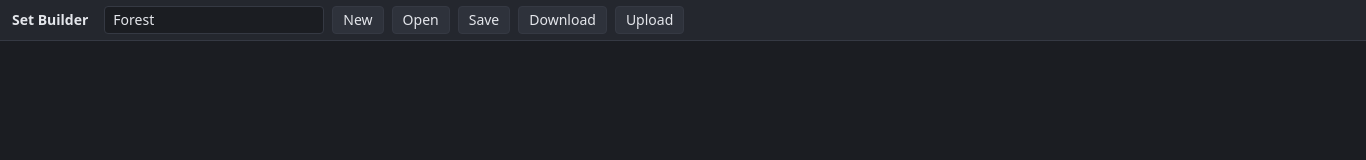
TopBar › shows the new name when the scene is replaced while the field is being edited
Type " edit" into the field named "Scene name" at (214, 20), box [104, 6, 324, 34]
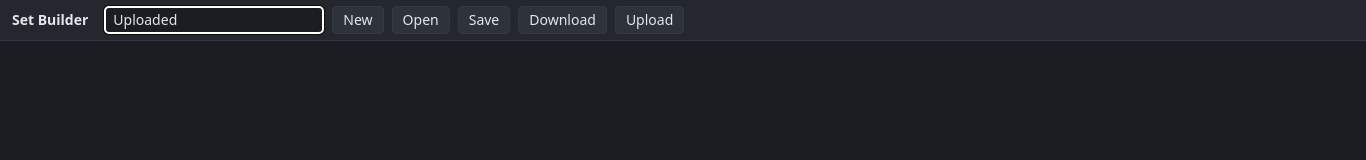
Now the field named "Scene name" holds "Uploaded"
Type " edit" into the field named "Scene name" at (214, 20), box [104, 6, 324, 34]
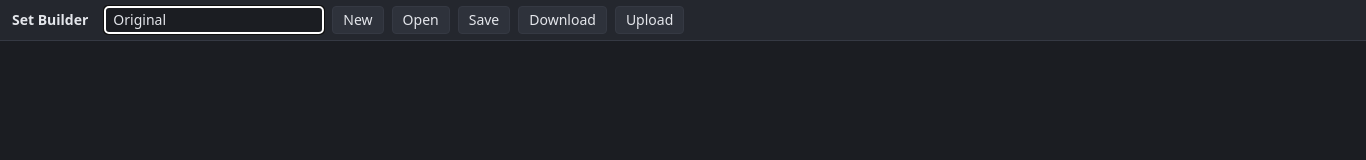
Now the field named "Scene name" holds "Original", box [104, 6, 324, 34]
